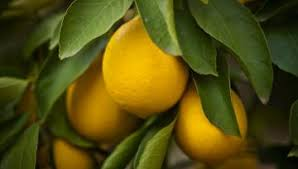orange: (101, 18, 185, 109)
